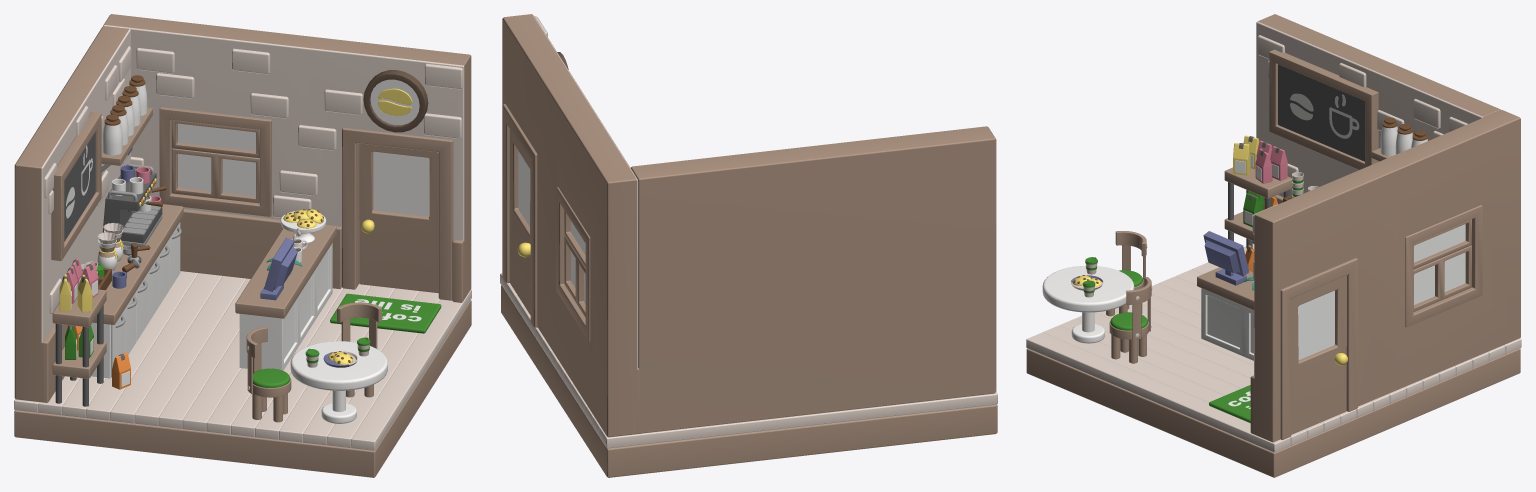
Rendered from Cafe_5.glb.
The picture shows the model from 3 angles, left to right: view 1: azimuth 30°, elevation 25°; view 2: azimuth 150°, elevation 25°; view 3: azimuth 270°, elevation 25°; orthographic projection. The views are drawn at different scales.
Visible parts, largest first — view 1: Cafe_Wall_1, Cafe_Floor_2, Cafe_Wall_2, Cafe_Door_1, Cafe_Floor_1, Cafe_Window_1, Cafe_Cabinet_1, Cafe_Cabinet_2, Cafe_Board_1, Cafe_Table_1, Cafe_Shelf_1, Cafe_Coffee_Bean_Sign_1 (+11 smaller); view 2: Cafe_Wall_2, Cafe_Wall_1, Cafe_Floor_1, Cafe_Door_1, Cafe_Floor_2, Cafe_Window_1; view 3: Cafe_Wall_1, Cafe_Floor_2, Cafe_Wall_2, Cafe_Floor_1, Cafe_Door_1, Cafe_Board_1, Cafe_Window_1, Cafe_Cabinet_1, Cafe_Table_1, Cafe_Chair_2, Cafe_Shelf_1, Cafe_Cafe_Cash_Register_1 (+4 smaller).
Boxes of the visible parts, <box> form: Cafe_Wall_1: <box>103,14,471,302</box>; Cafe_Floor_2: <box>14,271,471,450</box>; Cafe_Wall_2: <box>14,26,131,402</box>; Cafe_Door_1: <box>342,127,453,300</box>; Cafe_Floor_1: <box>14,300,471,477</box>; Cafe_Window_1: <box>159,107,271,216</box>; Cafe_Cabinet_1: <box>235,225,336,370</box>; Cafe_Cabinet_2: <box>91,204,183,378</box>; Cafe_Board_1: <box>51,112,101,260</box>; Cafe_Table_1: <box>290,341,387,423</box>; Cafe_Shelf_1: <box>52,289,106,406</box>; Cafe_Coffee_Bean_Sign_1: <box>363,70,428,132</box>; Cafe_Wall_2: <box>631,126,996,433</box>; Cafe_Wall_1: <box>502,14,642,437</box>; Cafe_Floor_1: <box>501,285,997,477</box>; Cafe_Door_1: <box>502,104,537,327</box>; Cafe_Floor_2: <box>500,273,997,448</box>; Cafe_Window_1: <box>556,187,590,341</box>; Cafe_Wall_1: <box>1250,110,1520,442</box>; Cafe_Floor_2: <box>1026,243,1521,452</box>; Cafe_Wall_2: <box>1252,14,1500,243</box>; Cafe_Floor_1: <box>1026,348,1520,477</box>; Cafe_Door_1: <box>1280,258,1357,440</box>; Cafe_Board_1: <box>1269,49,1378,169</box>; Cafe_Window_1: <box>1405,205,1482,327</box>; Cafe_Cabinet_1: <box>1197,267,1254,360</box>; Cafe_Table_1: <box>1042,266,1134,343</box>; Cafe_Chair_2: <box>1109,277,1152,363</box>; Cafe_Shelf_1: <box>1224,167,1292,248</box>; Cafe_Cafe_Cash_Register_1: <box>1203,231,1248,285</box>.
Size of the model in its own units: 7.06 by 4.02 by 7.04.
1 material, 1 textured.
